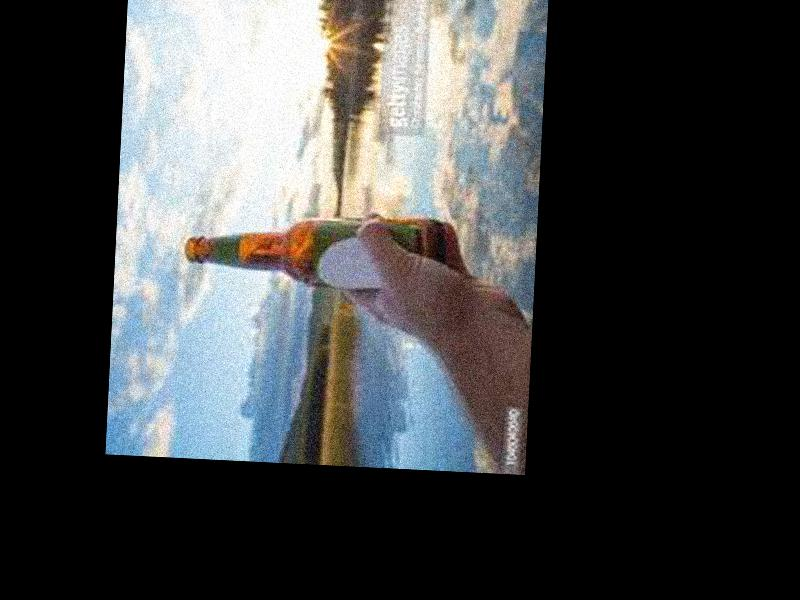Beer: (183, 205, 443, 295)
